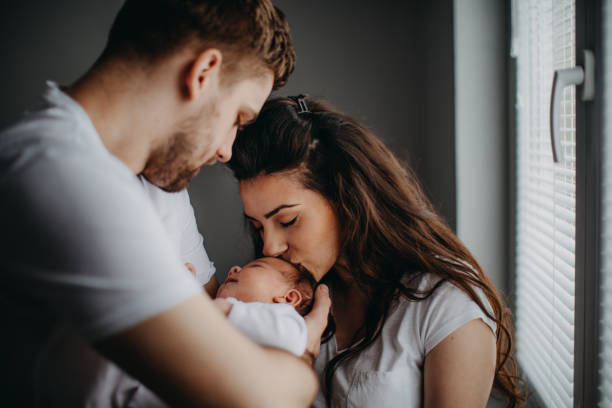without mask: (89, 1, 276, 196), (245, 160, 359, 281), (195, 223, 291, 312)
